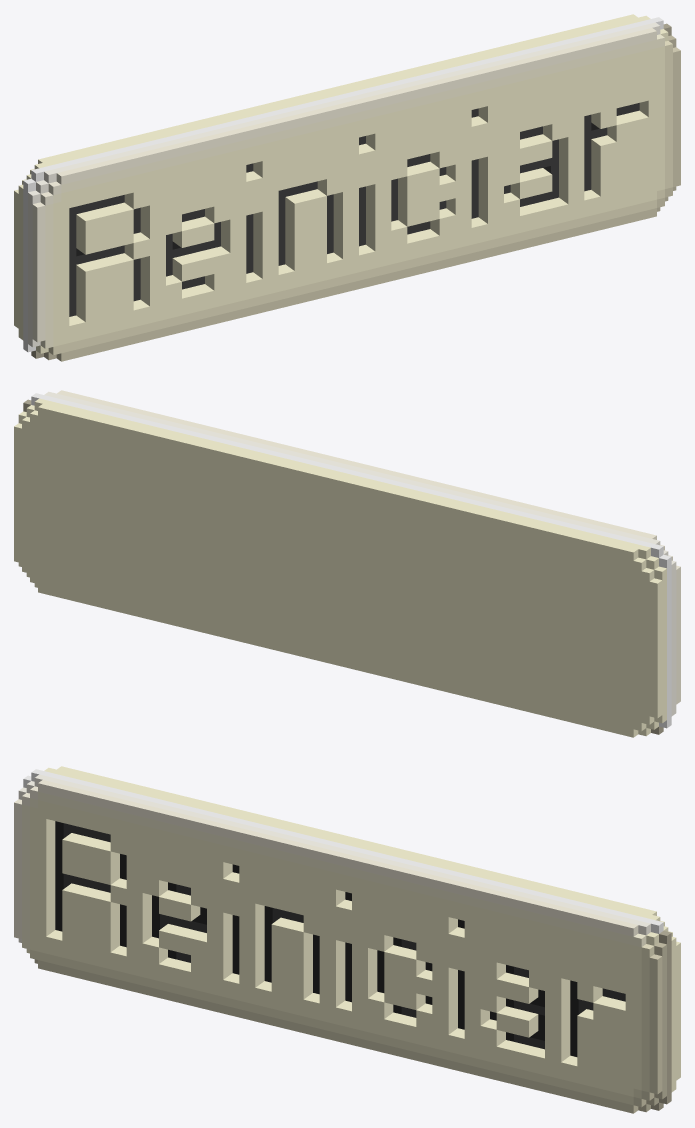
Rendered from Reiniciar.obj.
3 renders of one model, top to bottom at view 1: azimuth 30°, elevation 25°; view 2: azimuth 150°, elevation 25°; view 3: azimuth 330°, elevation 25°, orthographic.
Bounding box in the file's own units: 8 × 2.2 × 0.5.
1 material, 1 textured.
